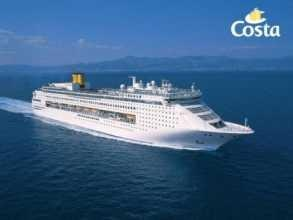youlun: (25, 63, 259, 153)
